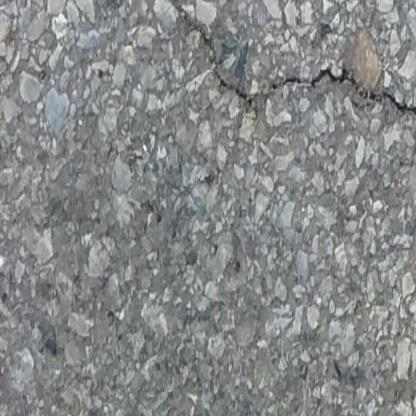Cracks: (209, 68, 385, 110), (156, 0, 218, 67), (392, 99, 416, 134)
